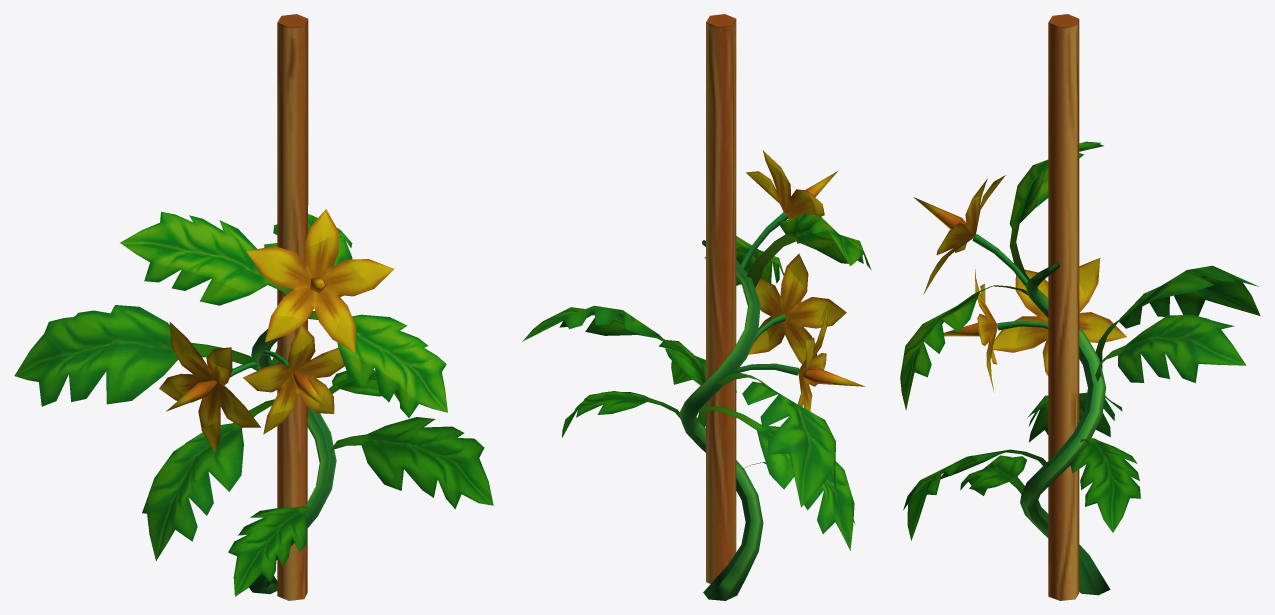
Rendered from tomato_lv2.glb.
The picture shows the model from 3 angles, left to right: view 1: azimuth 30°, elevation 25°; view 2: azimuth 150°, elevation 25°; view 3: azimuth 270°, elevation 25°; orthographic projection. The views are drawn at different scales.
Parts seen in each view (by area): view 1: SM_Tomato_Lv2_Tomato_SG_0; view 2: SM_Tomato_Lv2_Tomato_SG_0; view 3: SM_Tomato_Lv2_Tomato_SG_0.
Boxes of the visible parts, x1,y1,x2,y2 form: SM_Tomato_Lv2_Tomato_SG_0: (14,14,493,600); SM_Tomato_Lv2_Tomato_SG_0: (522,14,871,600); SM_Tomato_Lv2_Tomato_SG_0: (900,14,1260,600).
Size of the model in its own units: 0.2801 by 0.4748 by 0.2702.
1 material, 1 textured.
